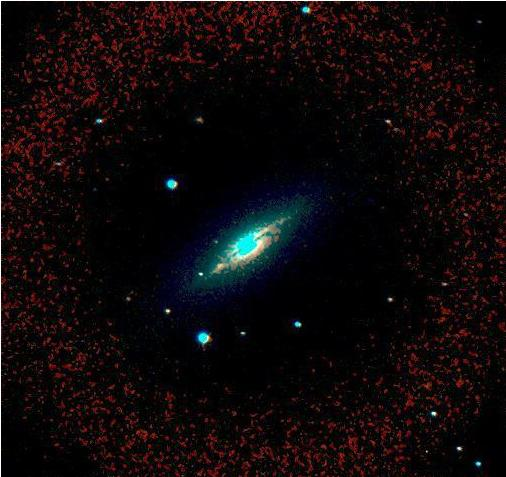star: (182, 258, 212, 288)
